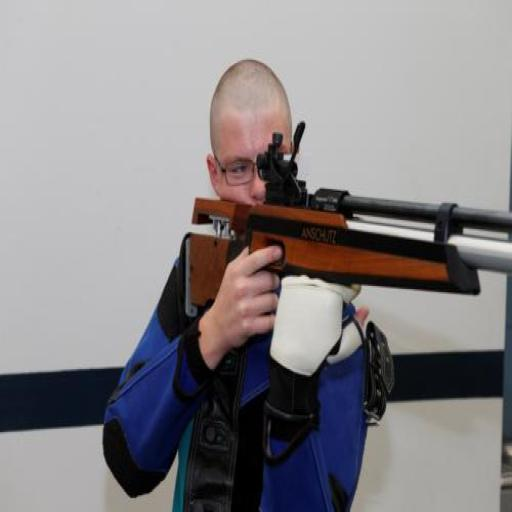shooting: (100, 56, 396, 510)
